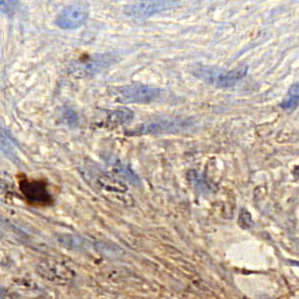Lymphocyte: (15, 171, 59, 207)
